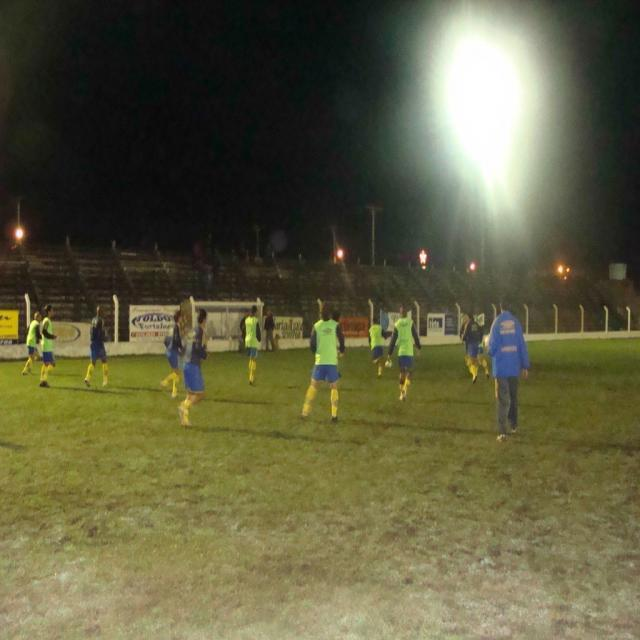ball: (385, 360, 392, 369)
